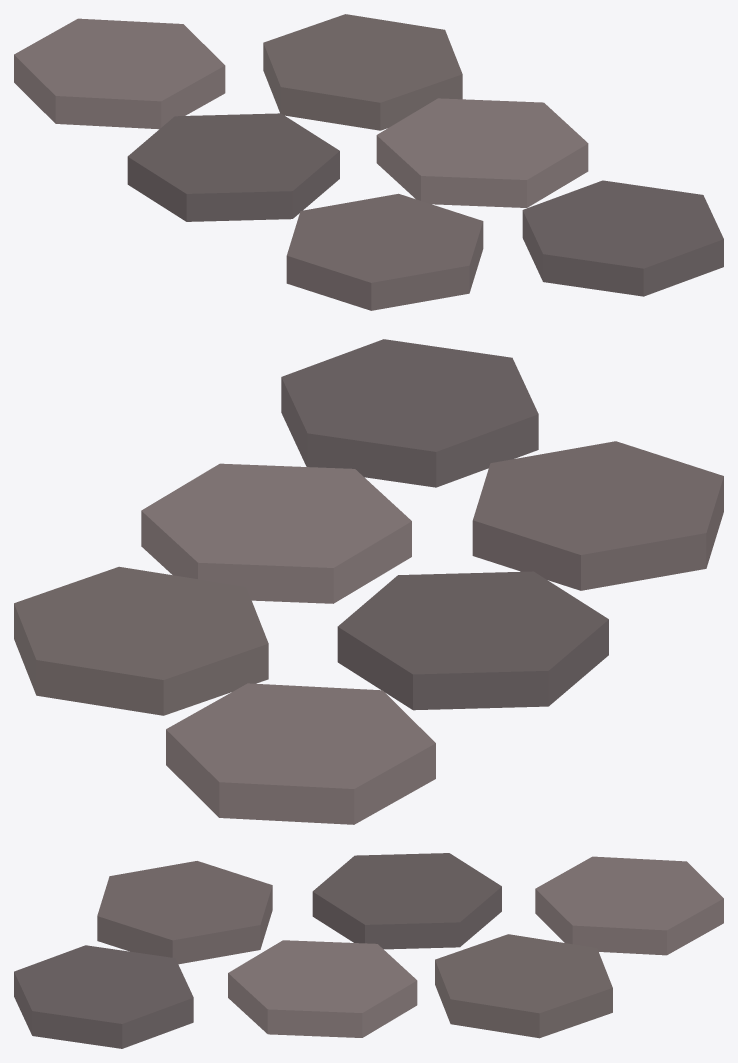
The model's file is village_town_stonepath.glb.
3 views of the same model, one above another, from view 1: azimuth 30°, elevation 25°; view 2: azimuth 150°, elevation 25°; view 3: azimuth 270°, elevation 25° (orthographic). The views are drawn at different scales.
Visible parts, largest first — view 1: StonePath.001_Material.005_0; view 2: StonePath.001_Material.005_0; view 3: StonePath.001_Material.005_0.
Part boxes in pixels (left/top/right/bottom): StonePath.001_Material.005_0: left=14, top=14, right=723, bottom=310; StonePath.001_Material.005_0: left=14, top=339, right=723, bottom=824; StonePath.001_Material.005_0: left=14, top=853, right=723, bottom=1048.
Bounding box in the file's own units: 1.19 × 0.0808 × 2.08.
1 material, 1 textured.
